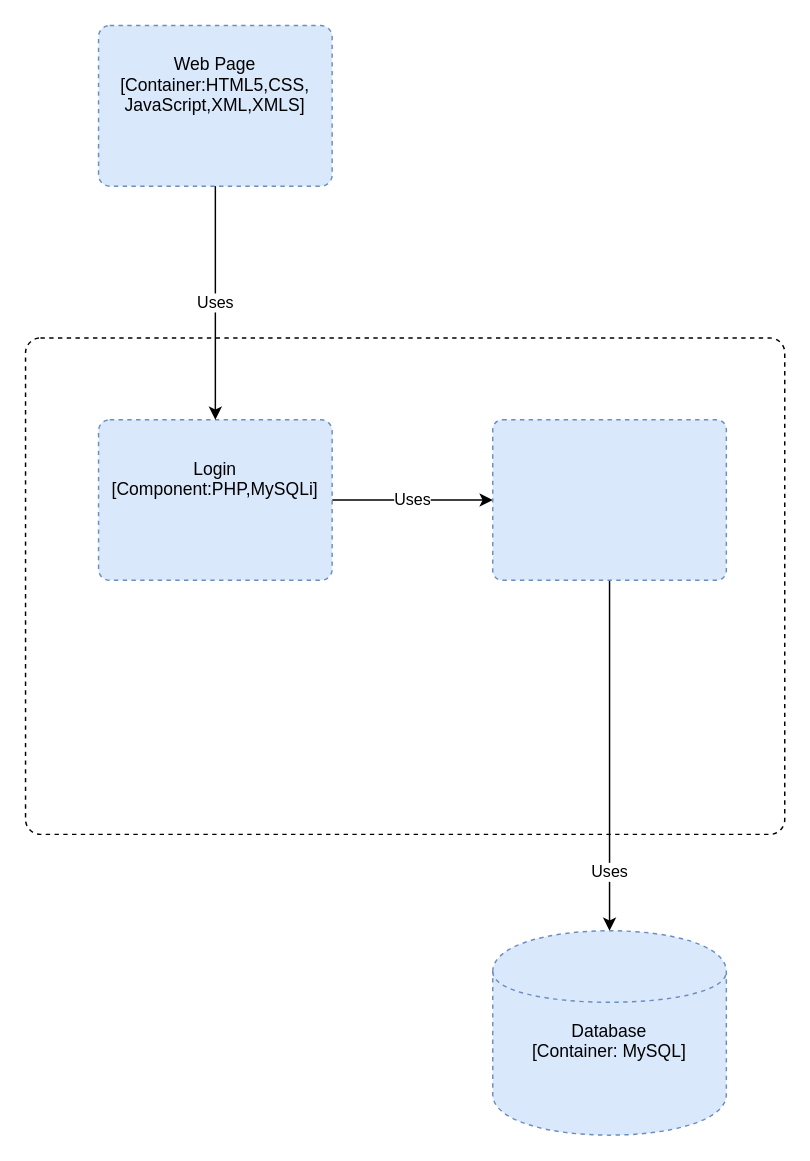
Image size: 810x1161. Some labels were removed from this diagram. Each missing label, with the box of its shape:
Back End Functionality [Container]: (24, 337, 785, 834)
Control Panel [Component:MySQLi,PHP ]: (491, 418, 726, 580)
